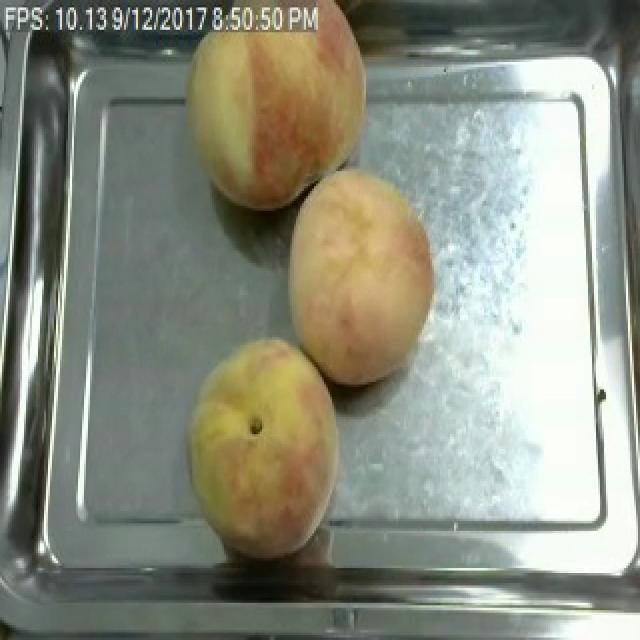Fruit: (174, 5, 378, 218), (176, 330, 352, 566), (276, 162, 444, 394)
